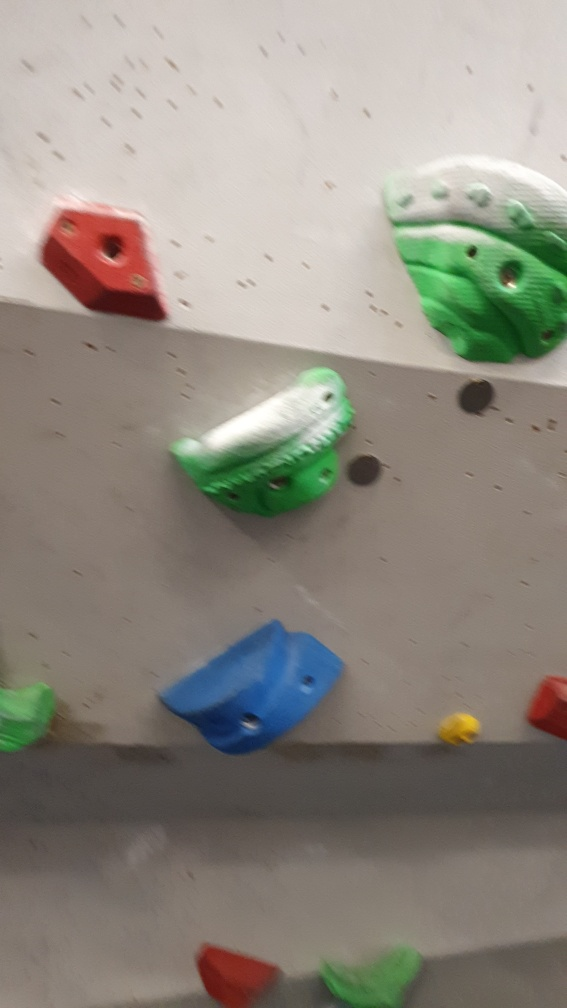Crimp: (38, 199, 176, 323)
Hand Start: (450, 373, 501, 418), (342, 451, 392, 495)
Jug: (381, 150, 567, 370), (173, 365, 356, 519), (317, 942, 428, 1008)
Pinch: (151, 614, 350, 761)
